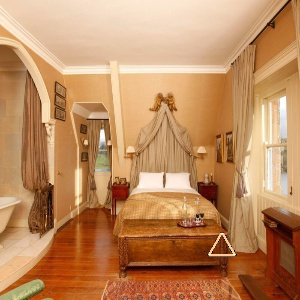triangle: (202, 230, 239, 259)
